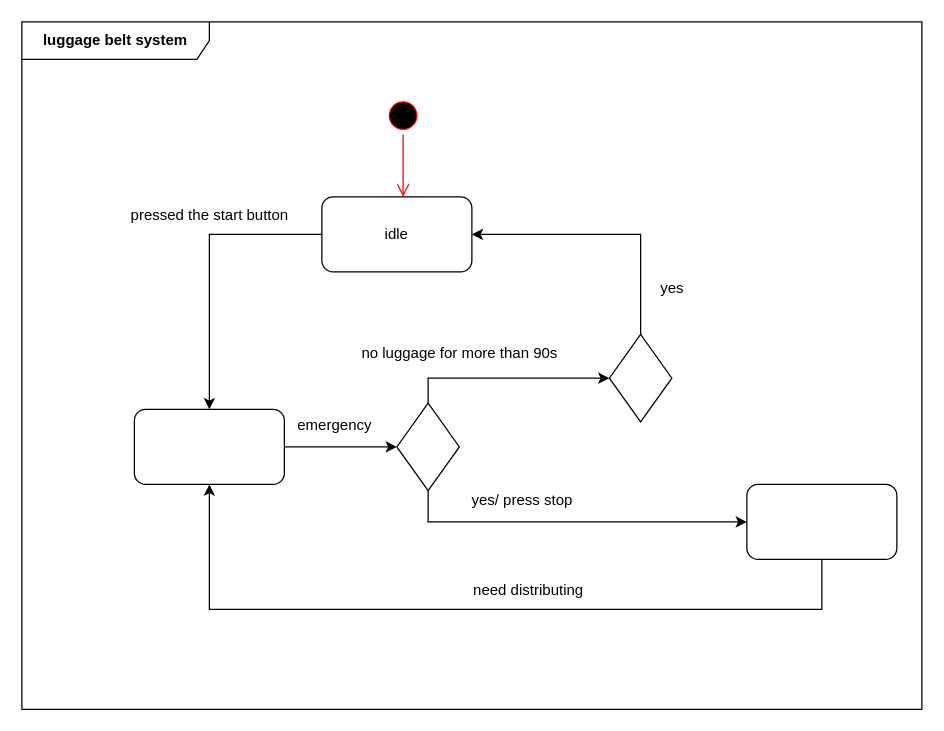
The diagram is 944 pixels wide and 731 high, and some of its shapes have lost their labels. Each missing label, with the centre of its shape:
running: the point at 208,446
stop: the point at 821,521
